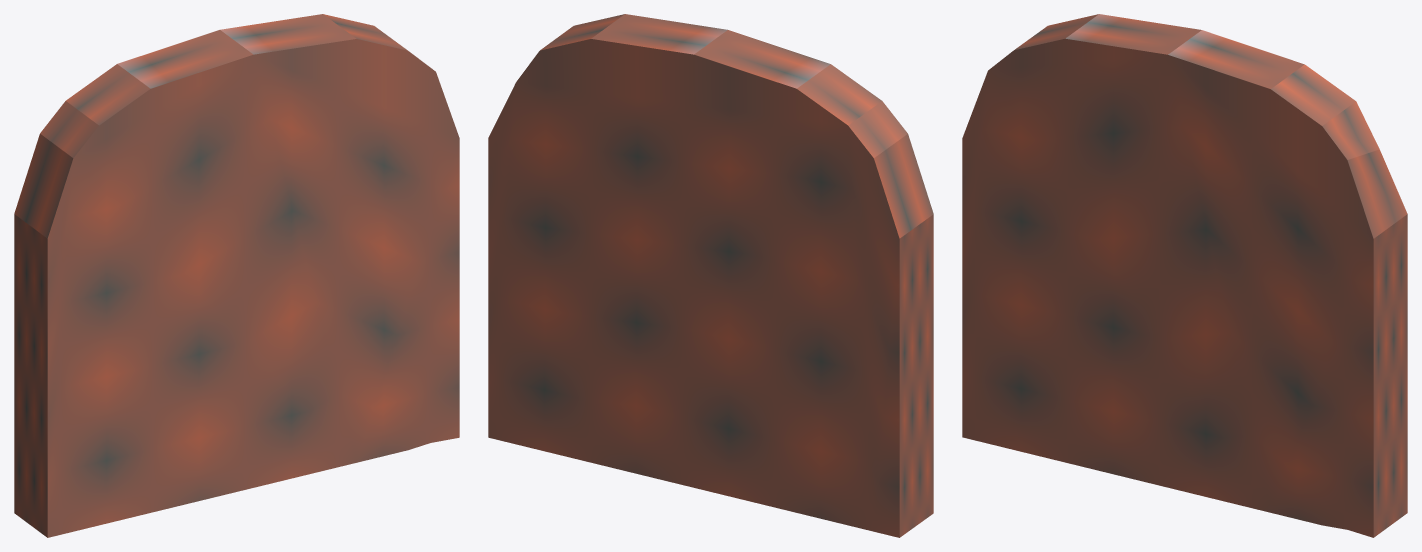
The model's file is door-archway-doubledoor.glb.
3 renders of one model, left to right at view 1: azimuth 30°, elevation 25°; view 2: azimuth 150°, elevation 25°; view 3: azimuth 330°, elevation 25°, orthographic.
Parts seen in each view (by area): view 1: Cube; view 2: Cube; view 3: Cube.
Boxes of the visible parts, x1,y1,x2,y2 form: Cube: (14,14,459,537); Cube: (488,14,933,537); Cube: (962,14,1407,537).
Bounding box in the file's own units: 3.97 × 3.99 × 0.5889.
Materials: 1 (1 with a texture image).
